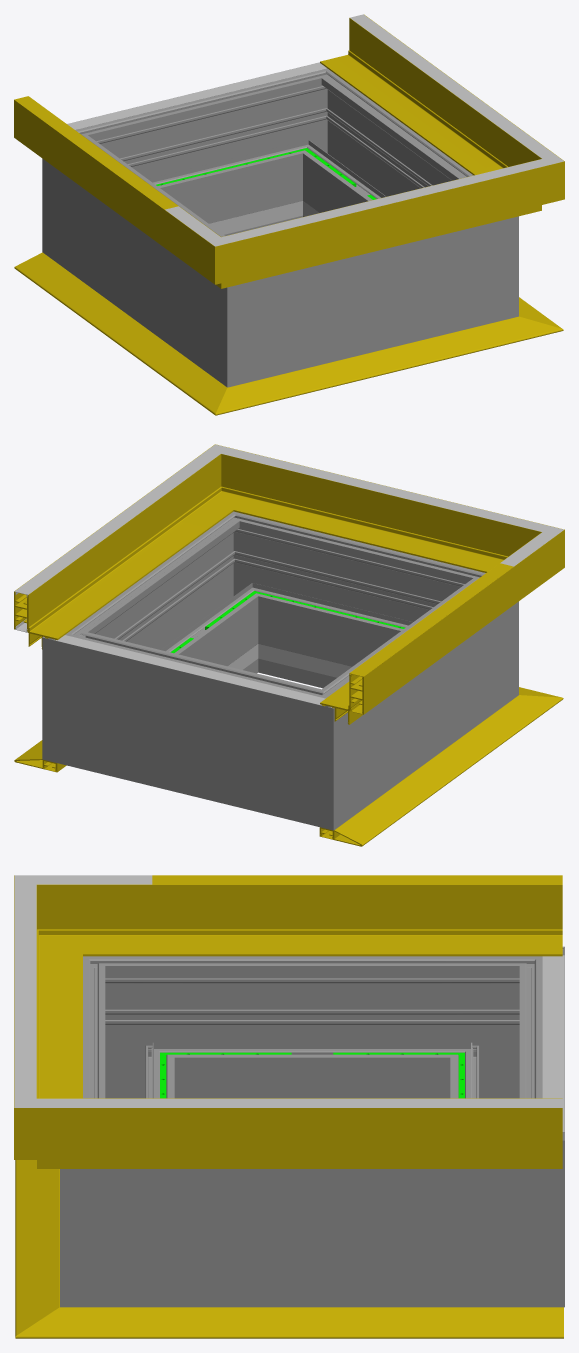
3 renders of one model, top to bottom at view 1: azimuth 30°, elevation 25°; view 2: azimuth 150°, elevation 25°; view 3: azimuth 270°, elevation 25°, orthographic. The views are drawn at different scales.
Parts seen in each view (by area): view 1: 3DGeom-276, 3DGeom-270, 3DGeom-298, 3DGeom-58, 3DGeom-284, 3DGeom-290, 3DGeom-268, 3DGeom-56, 3DGeom-297, 3DGeom-278, 3DGeom-50, 3DGeom-52 (+12 smaller); view 2: 3DGeom-278, 3DGeom-276, 3DGeom-298, 3DGeom-284, 3DGeom-58, 3DGeom-290, 3DGeom-56, 3DGeom-297, 3DGeom-268, 3DGeom-50, 3DGeom-270, 3DGeom-60 (+11 smaller); view 3: 3DGeom-268, 3DGeom-297, 3DGeom-50, 3DGeom-58, 3DGeom-284, 3DGeom-290, 3DGeom-278, 3DGeom-270, 3DGeom-30, 3DGeom-52, 3DGeom-60, 3DGeom-33 (+11 smaller).
Part boxes in pixels (x1,y1,x2,y2): 3DGeom-276: (132,80,288,235); 3DGeom-270: (177,221,314,387); 3DGeom-298: (315,237,431,366); 3DGeom-58: (320,14,512,172); 3DGeom-284: (248,63,369,220); 3DGeom-290: (431,161,518,337); 3DGeom-268: (92,160,205,350); 3DGeom-56: (294,176,477,270); 3DGeom-297: (311,99,453,212); 3DGeom-278: (42,110,171,288); 3DGeom-50: (14,96,178,247); 3DGeom-52: (164,206,302,288); 3DGeom-278: (246,664,384,830); 3DGeom-276: (129,646,262,808); 3DGeom-298: (272,529,422,688); 3DGeom-284: (42,604,145,780); 3DGeom-58: (14,482,208,649); 3DGeom-290: (191,511,306,675); 3DGeom-56: (277,465,476,564); 3DGeom-297: (107,542,249,671); 3DGeom-268: (356,603,468,793); 3DGeom-50: (320,563,514,724); 3DGeom-270: (389,558,518,731); 3DGeom-60: (165,444,300,529); 3DGeom-268: (197,956,427,1098); 3DGeom-297: (197,1169,427,1307); 3DGeom-50: (151,884,562,956); 3DGeom-58: (151,1098,562,1168); 3DGeom-284: (427,1082,564,1307); 3DGeom-290: (60,1082,197,1307); 3DGeom-278: (427,946,564,1098); 3DGeom-270: (83,956,197,1098); 3DGeom-30: (153,1307,563,1338); 3DGeom-52: (14,875,151,983); 3DGeom-60: (14,1050,151,1168); 3DGeom-33: (15,1268,152,1338).
Bounding box in the file's own units: 0.6096 × 0.2831 × 0.6096.
